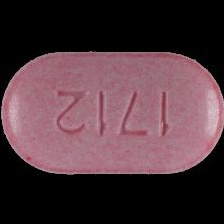43063-655: (0, 0, 224, 224)
